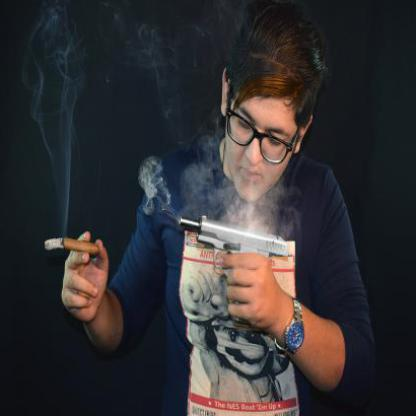cigarette: (44, 235, 100, 253)
person: (125, 8, 374, 416)
smoke: (23, 5, 83, 225), (218, 189, 292, 231), (182, 142, 222, 218), (136, 150, 176, 222)
